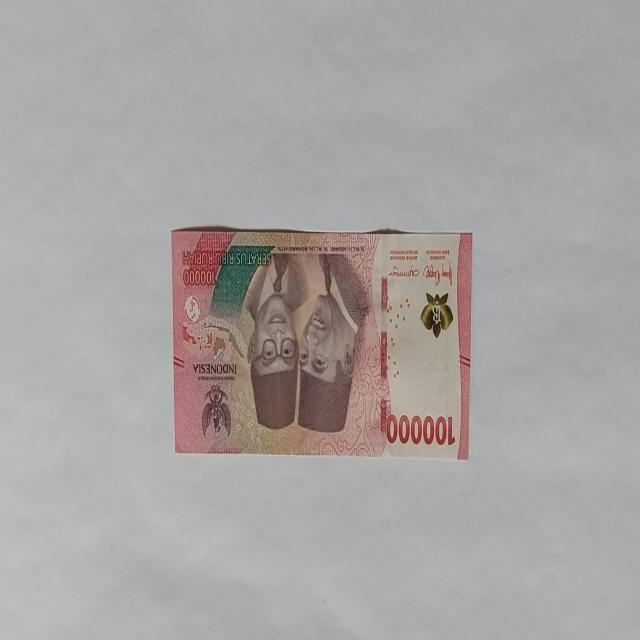seratus ribu rupiah: (170, 225, 472, 460)
